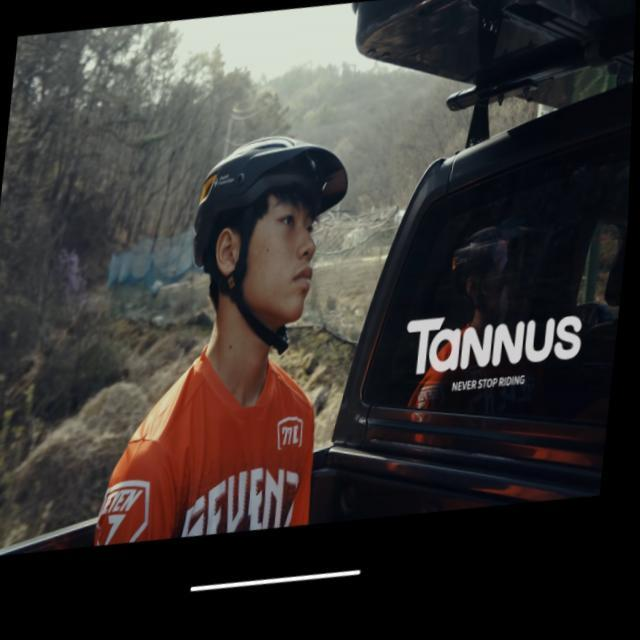Helmet: (183, 117, 357, 346)
